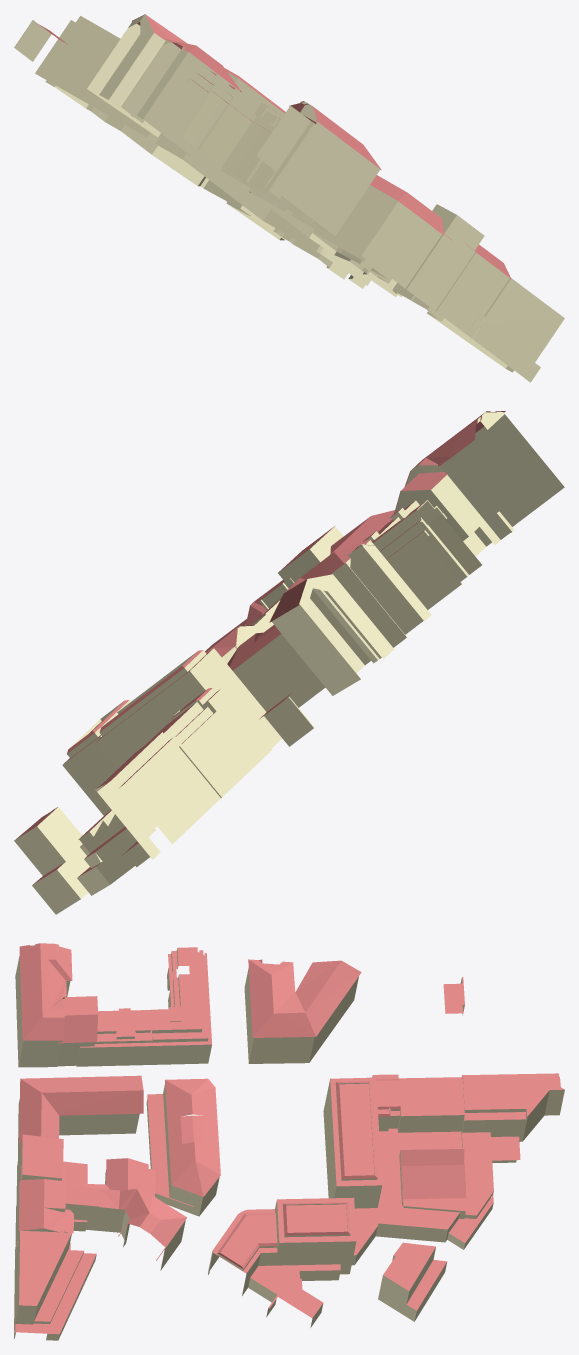
The model's file is tile_080.glb.
3 views of the same model, one above another, from view 1: azimuth 30°, elevation 25°; view 2: azimuth 150°, elevation 25°; view 3: azimuth 270°, elevation 25° (orthographic). The views are drawn at different scales.
Visible parts, largest first — view 1: Batched_Building_ID_7CEB8AA4-0F9A-45FA-8530-3851E8471F75; view 2: Batched_Building_ID_7CEB8AA4-0F9A-45FA-8530-3851E8471F75; view 3: Batched_Building_ID_7CEB8AA4-0F9A-45FA-8530-3851E8471F75.
Boxes of the visible parts, x1,y1,x2,y2 form: Batched_Building_ID_7CEB8AA4-0F9A-45FA-8530-3851E8471F75: (14,14,564,382); Batched_Building_ID_7CEB8AA4-0F9A-45FA-8530-3851E8471F75: (14,411,564,914); Batched_Building_ID_7CEB8AA4-0F9A-45FA-8530-3851E8471F75: (14,943,564,1340).
Size of the model in its own units: 113 by 109 by 178.
